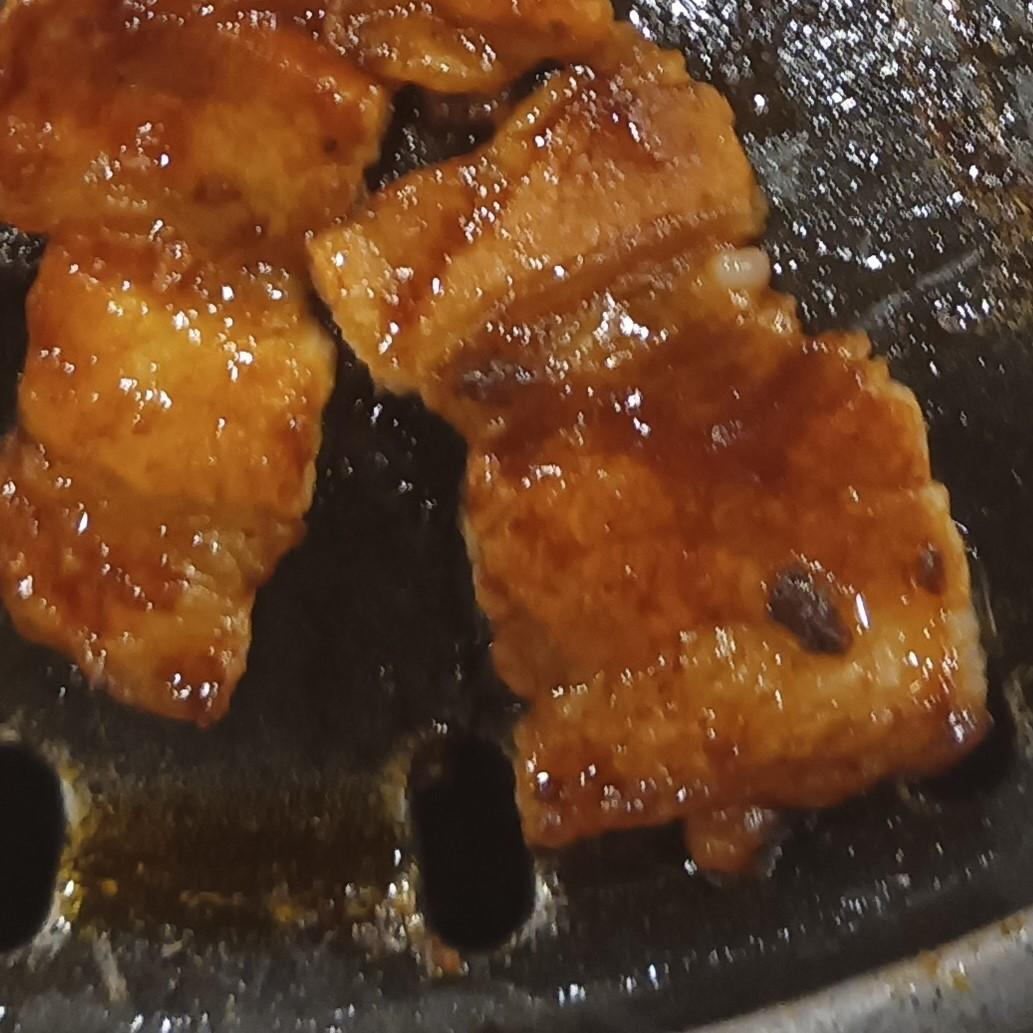Well-Cooked: (305, 0, 993, 857), (0, 0, 371, 734)
